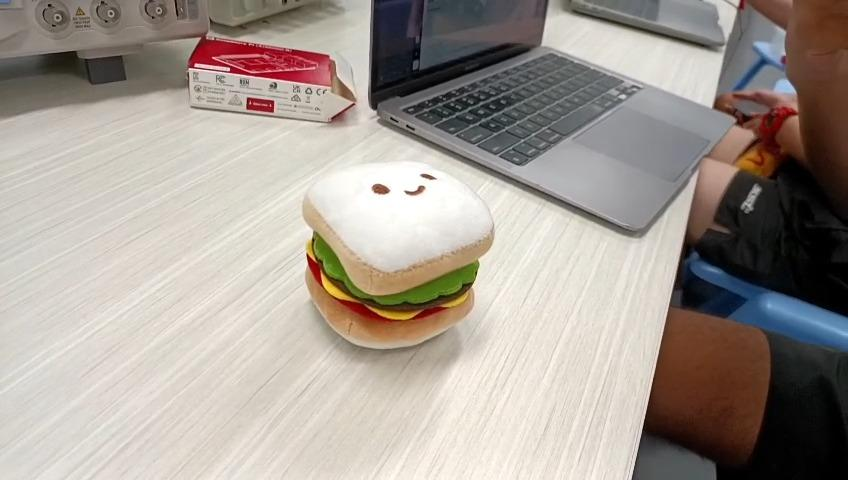objects: (301, 160, 495, 354)
